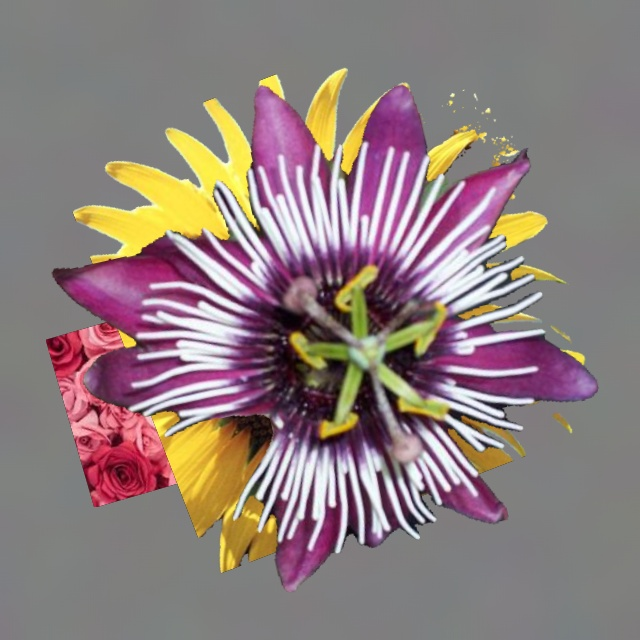passion flower: (52, 85, 597, 591)
rose: (46, 243, 429, 506)
sunflower: (73, 68, 584, 572)
